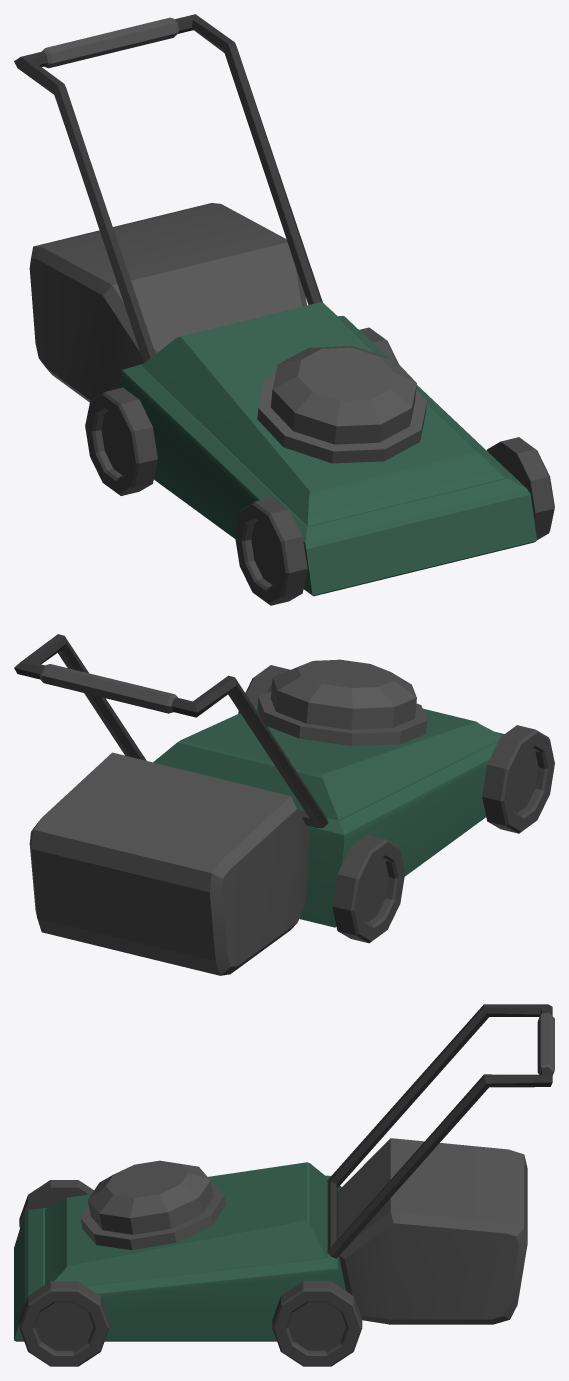
File: lawn mower_a003.glb
3 views of the same model, one above another, from view 1: azimuth 30°, elevation 25°; view 2: azimuth 150°, elevation 25°; view 3: azimuth 270°, elevation 25° (orthographic). The views are drawn at different scales.
Visible parts, largest first — view 1: lawn mower_a003; view 2: lawn mower_a003; view 3: lawn mower_a003.
Part boxes in pixels (box(x1,y1,x2,y2)): lawn mower_a003: box(14, 14, 554, 605); lawn mower_a003: box(14, 634, 554, 975); lawn mower_a003: box(14, 1004, 554, 1366).
Size of the model in its own units: 0.6098 by 0.7024 by 1.26.
Materials: 1 (1 with a texture image).
